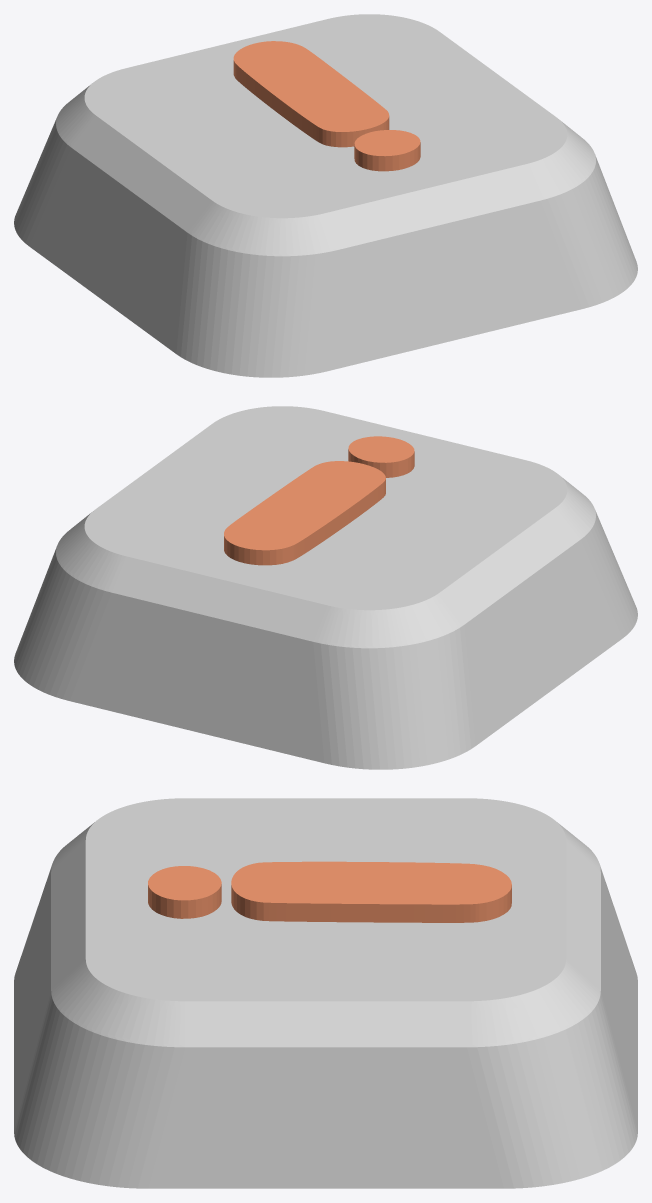
The model's file is cap-exclamation_mark.glb.
The picture shows the model from 3 angles, top to bottom: view 1: azimuth 30°, elevation 25°; view 2: azimuth 150°, elevation 25°; view 3: azimuth 270°, elevation 25°; orthographic projection. The views are drawn at different scales.
Visible parts, largest first — view 1: cap_0, glyph_1; view 2: cap_0, glyph_1; view 3: cap_0, glyph_1.
Part boxes in pixels (x1,y1,x2,y2): cap_0: [14, 14, 637, 377]; glyph_1: [233, 41, 420, 171]; cap_0: [14, 406, 637, 769]; glyph_1: [224, 436, 414, 565]; cap_0: [14, 798, 637, 1188]; glyph_1: [148, 861, 511, 922].
Size of the model in its own units: 18 by 5.59 by 18.
